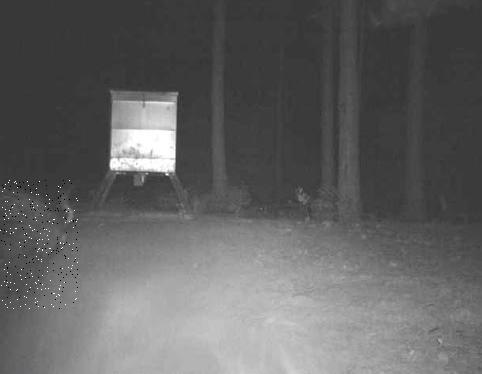Hog: (0, 180, 78, 309)
